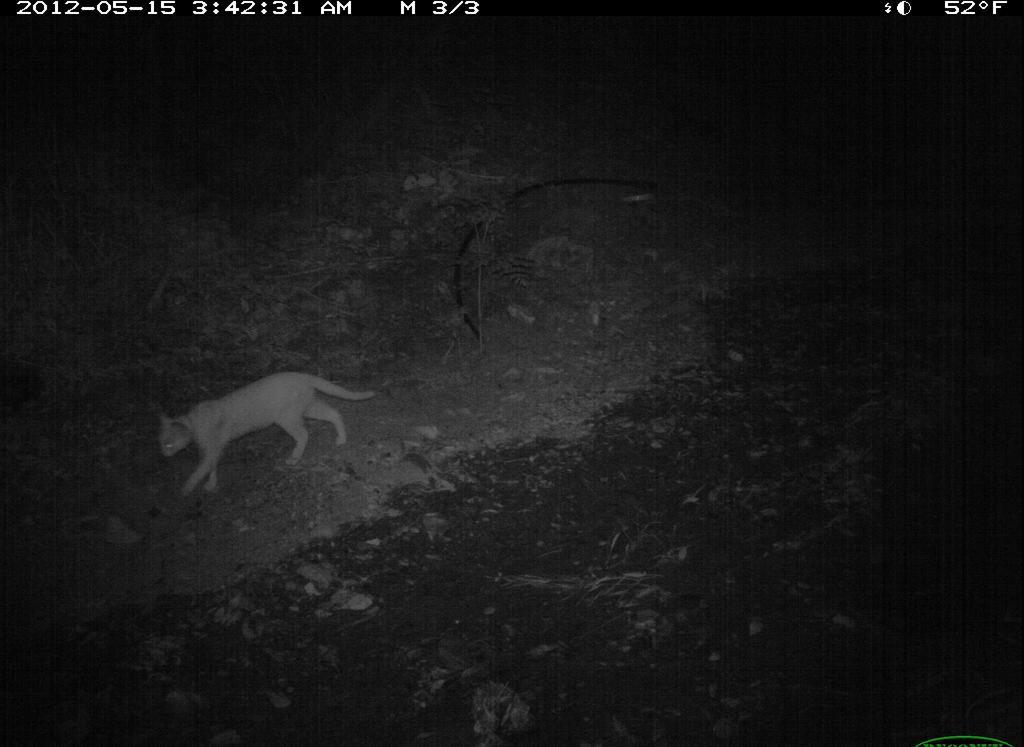cat: (149, 332, 393, 519)
